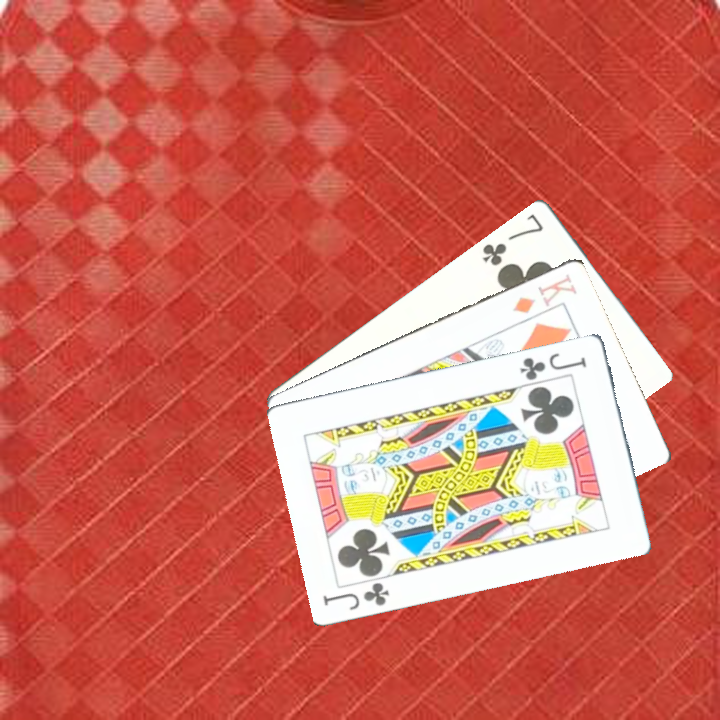7c: (478, 209, 546, 269)
Jc: (319, 567, 398, 613), (516, 349, 589, 383)
Kd: (508, 269, 580, 330)
